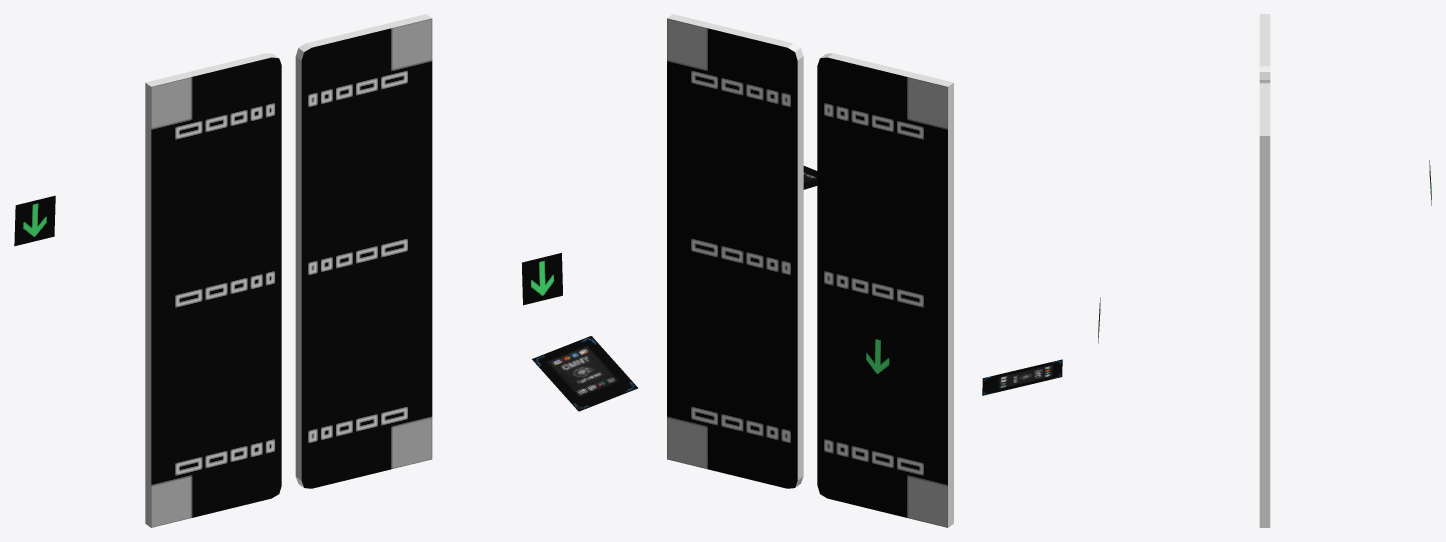
File: nyc_subway_fare_gate_5_twoway_closed_light_layer.obj
3 renders of one model, left to right at view 1: azimuth 30°, elevation 25°; view 2: azimuth 150°, elevation 25°; view 3: azimuth 270°, elevation 25°, orthographic. The views are drawn at different scales.
Parts seen in each view (by area): view 1: doorLeft, cube; view 2: doorLeft, cube; view 3: doorLeft, cube.
Part boxes in pixels (bbox=[...]): doorLeft: bbox=[145, 14, 432, 527]; cube: bbox=[14, 195, 637, 411]; doorLeft: bbox=[667, 14, 953, 527]; cube: bbox=[803, 166, 898, 383]; doorLeft: bbox=[1259, 14, 1270, 527]; cube: bbox=[982, 160, 1431, 395].
Bounding box in the file's own units: 1.16 × 1.31 × 1.36.
1 material, 1 textured.
